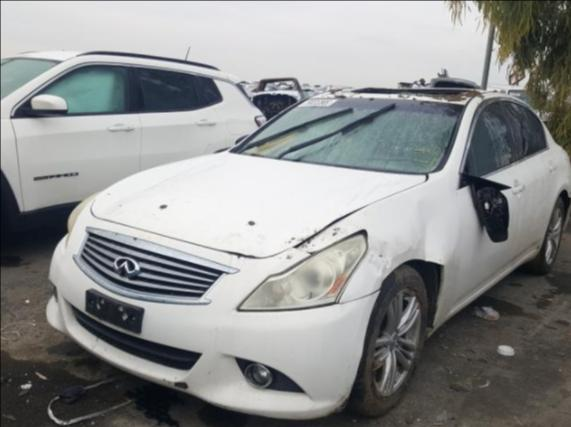Broken part: (288, 198, 382, 250), (307, 85, 495, 105), (460, 170, 511, 242), (215, 248, 267, 261)
Corrosion: (326, 386, 354, 414)
Dent: (399, 193, 459, 321), (296, 209, 360, 259), (218, 228, 268, 256), (368, 239, 396, 275)
Flaking: (78, 323, 110, 352), (331, 372, 351, 401), (212, 401, 258, 413)
Missing part: (84, 292, 138, 331)
Paint chip: (279, 235, 316, 259), (284, 228, 316, 244), (174, 380, 190, 390), (161, 375, 177, 385), (331, 226, 340, 236), (157, 203, 168, 210), (247, 219, 256, 226), (377, 252, 384, 258), (207, 369, 212, 374), (119, 203, 123, 207), (133, 237, 137, 240), (115, 231, 118, 234), (107, 192, 110, 195)
Scratch: (226, 251, 251, 264)
